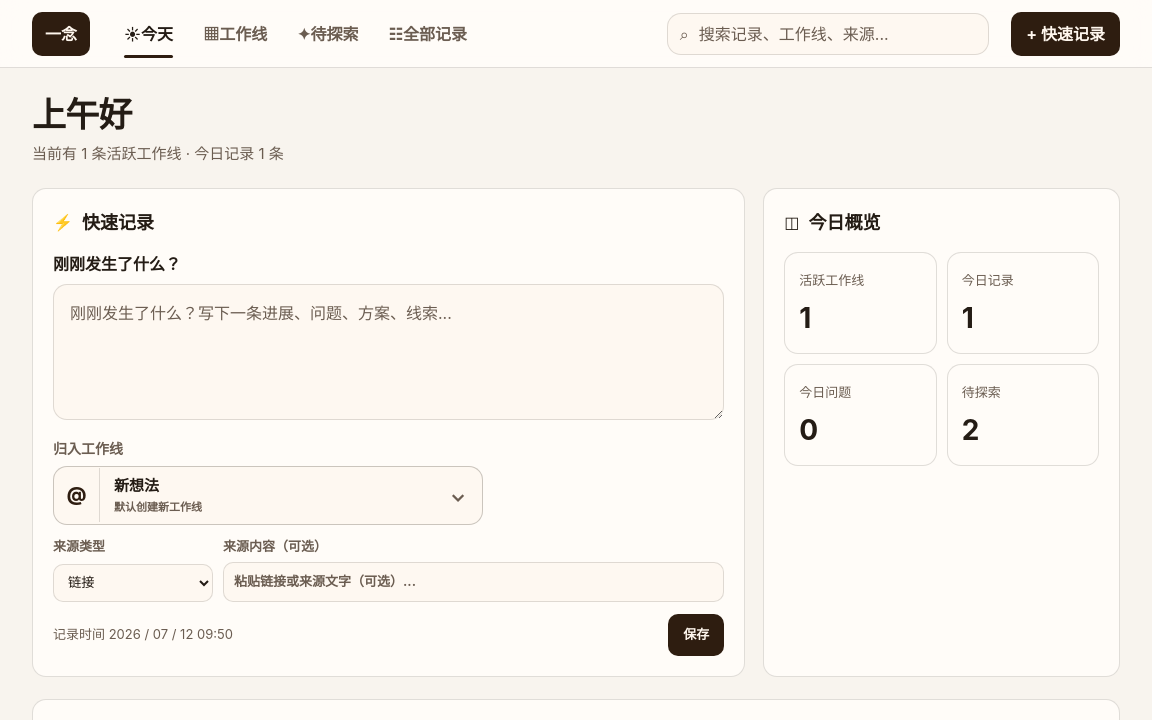
Test: Yinian six-page product shell › shows an auto-truncated timeline title only once as full content
Expected: the heading "上午好" is shown, [32,94,132,135]
Click the button "▦工作线": click(235, 34) [191,10,279,58]
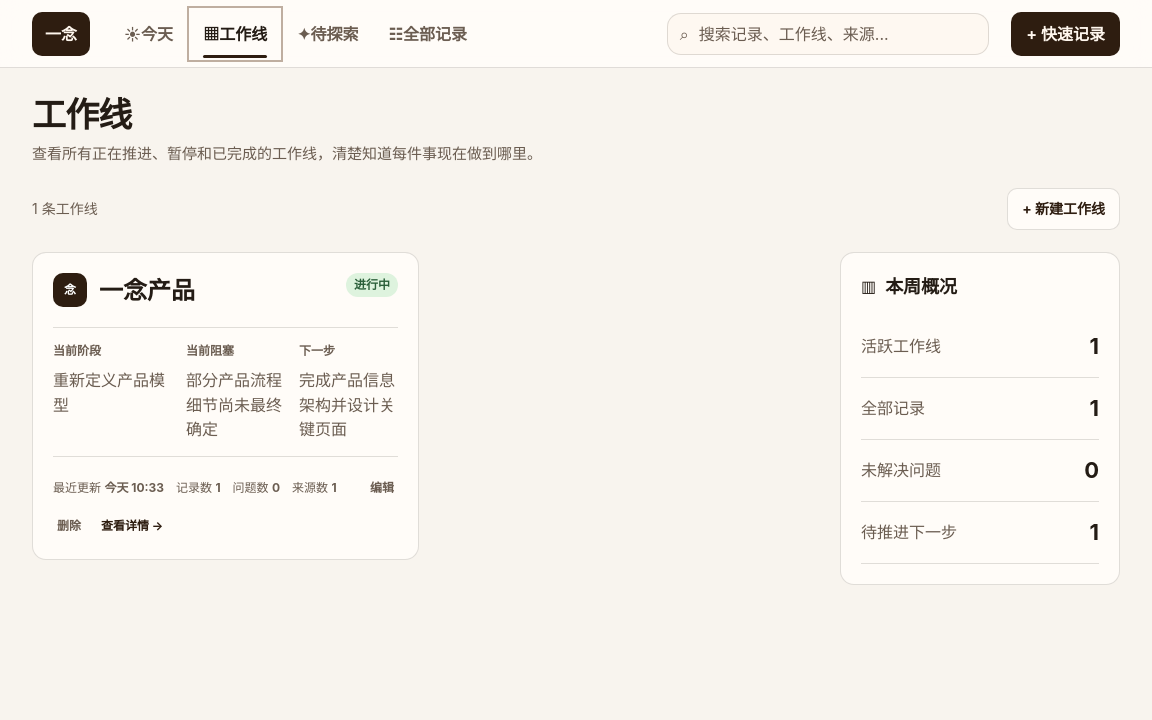
Click the button with aria-label "查看一念产品详情": click(132, 526) [97,513,167,539]
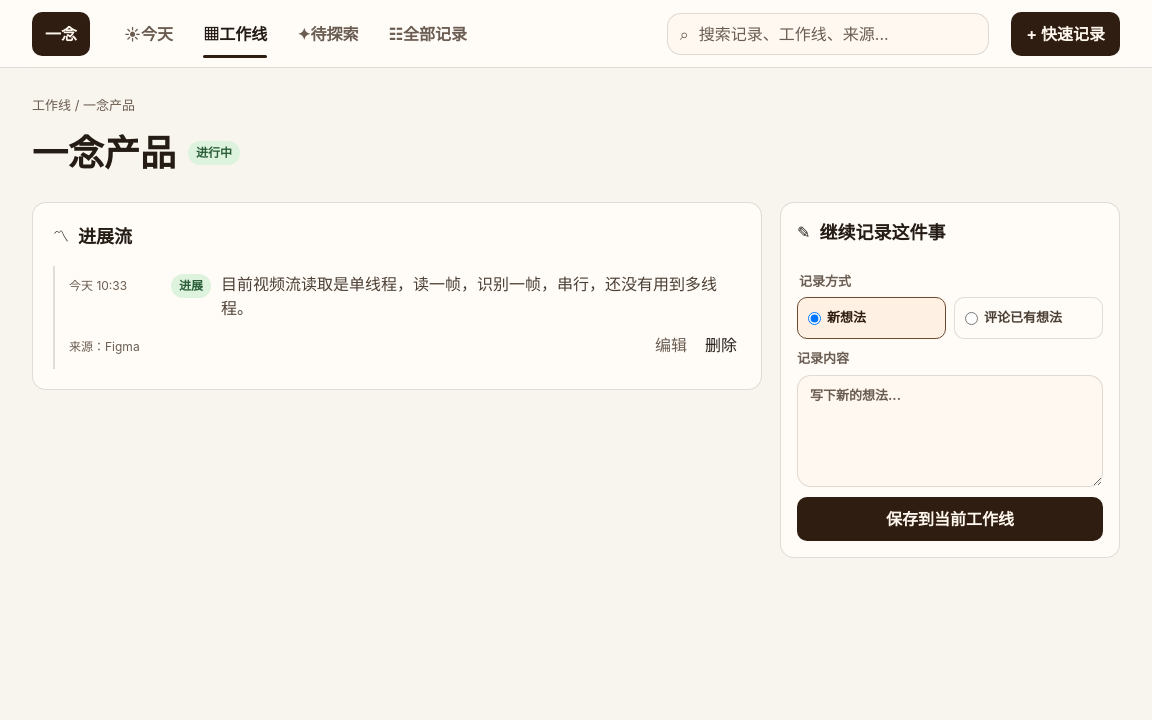
Expected: the text "目前视频流读取是单线程，读一帧，识别一帧，串行，还没有用到多线程。" is shown, [221,272,741,321]
